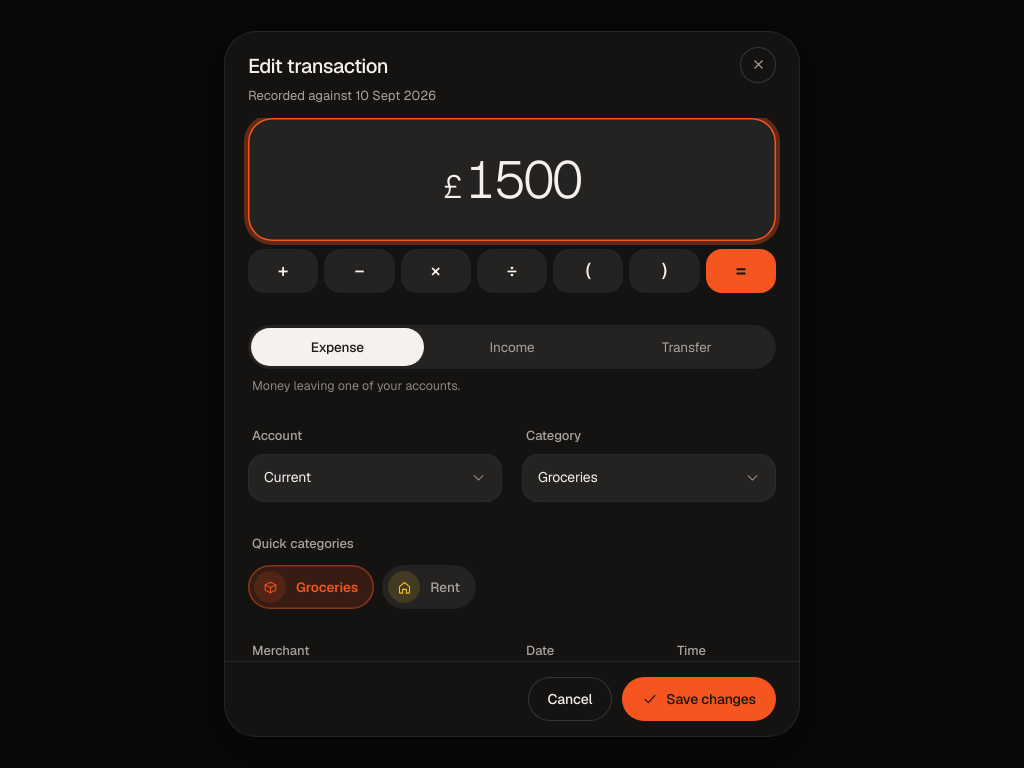
Test: which accounts are offered › keeps the closed account a transaction already sits on
Click the dropdown named "account": {"x": 375, "y": 478} [248,454,502,502]
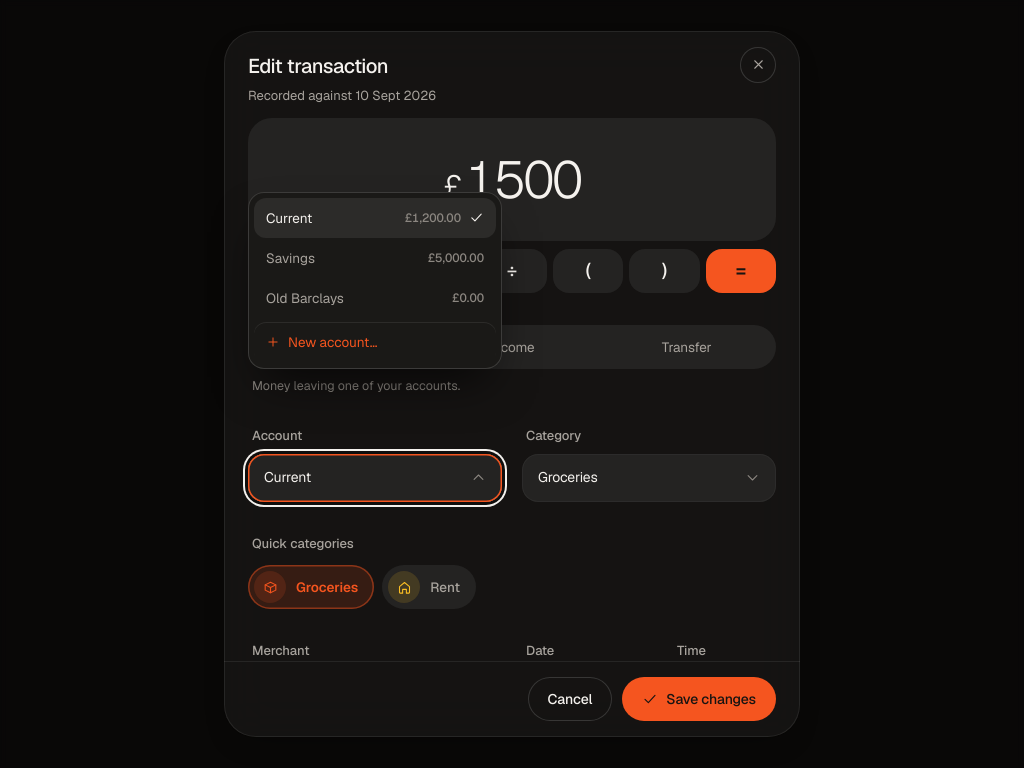
Expected: the option "Old Barclays £0.00" is shown, [266,289,484,307]
